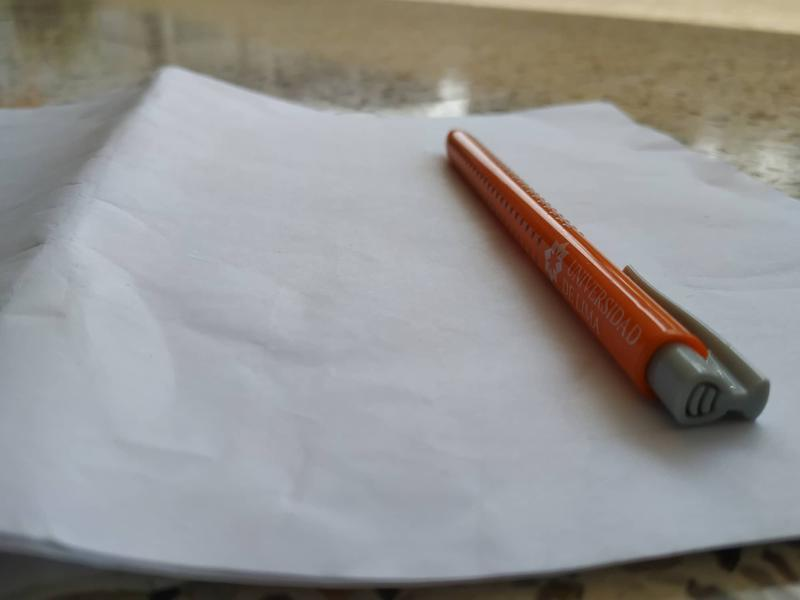qillqana: (429, 123, 776, 446)
